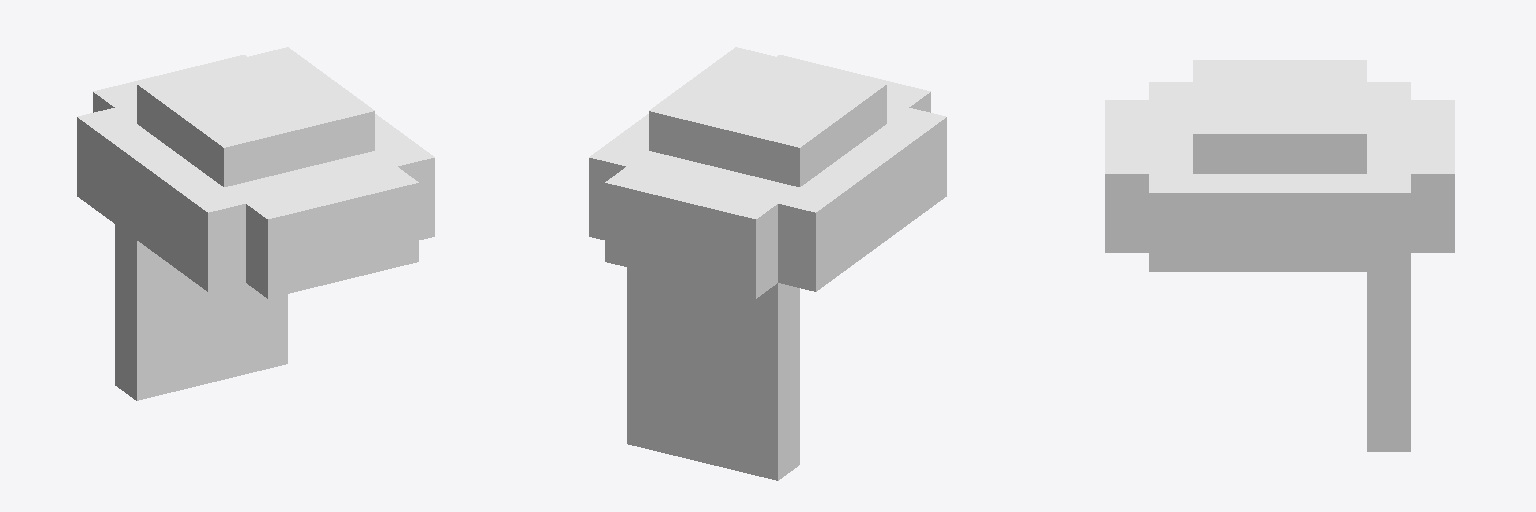
File: char-177-helm_lgt_3a_sh.obj
3 views of the same model, side by side, from view 1: azimuth 30°, elevation 25°; view 2: azimuth 150°, elevation 25°; view 3: azimuth 270°, elevation 25° (orthographic).
Parts seen in each view (by area): view 1: helm_lgt_3a_sh; view 2: helm_lgt_3a_sh; view 3: helm_lgt_3a_sh.
Boxes of the visible parts, <box> form: helm_lgt_3a_sh: <box>77,47,434,400</box>; helm_lgt_3a_sh: <box>589,47,946,480</box>; helm_lgt_3a_sh: <box>1105,60,1454,451</box>.
Bounding box in the file's own units: 0.6 × 0.8 × 0.8.